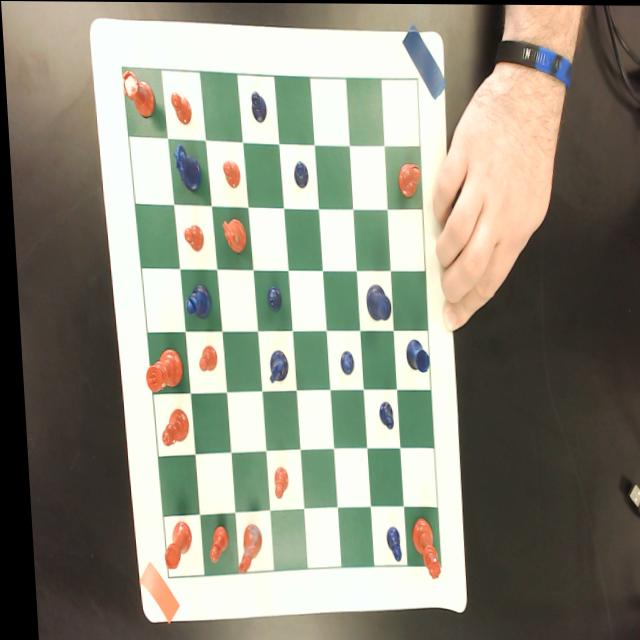B: (180, 281, 208, 318)
K: (361, 282, 387, 320)
N: (170, 141, 199, 192), (262, 348, 283, 383)
P: (378, 524, 396, 564), (248, 89, 266, 123), (372, 399, 389, 429), (290, 159, 306, 189), (261, 285, 278, 312), (334, 348, 350, 374)
R: (400, 338, 425, 373)
b: (153, 403, 185, 445), (394, 160, 420, 197)
k: (139, 346, 178, 390)
n: (228, 519, 257, 573), (216, 212, 244, 254)
p: (200, 522, 222, 562), (168, 90, 191, 126), (266, 464, 283, 499), (192, 344, 213, 372), (180, 223, 201, 251), (219, 158, 238, 188)
q: (403, 516, 434, 578)
r: (120, 66, 155, 120), (153, 519, 187, 569)
